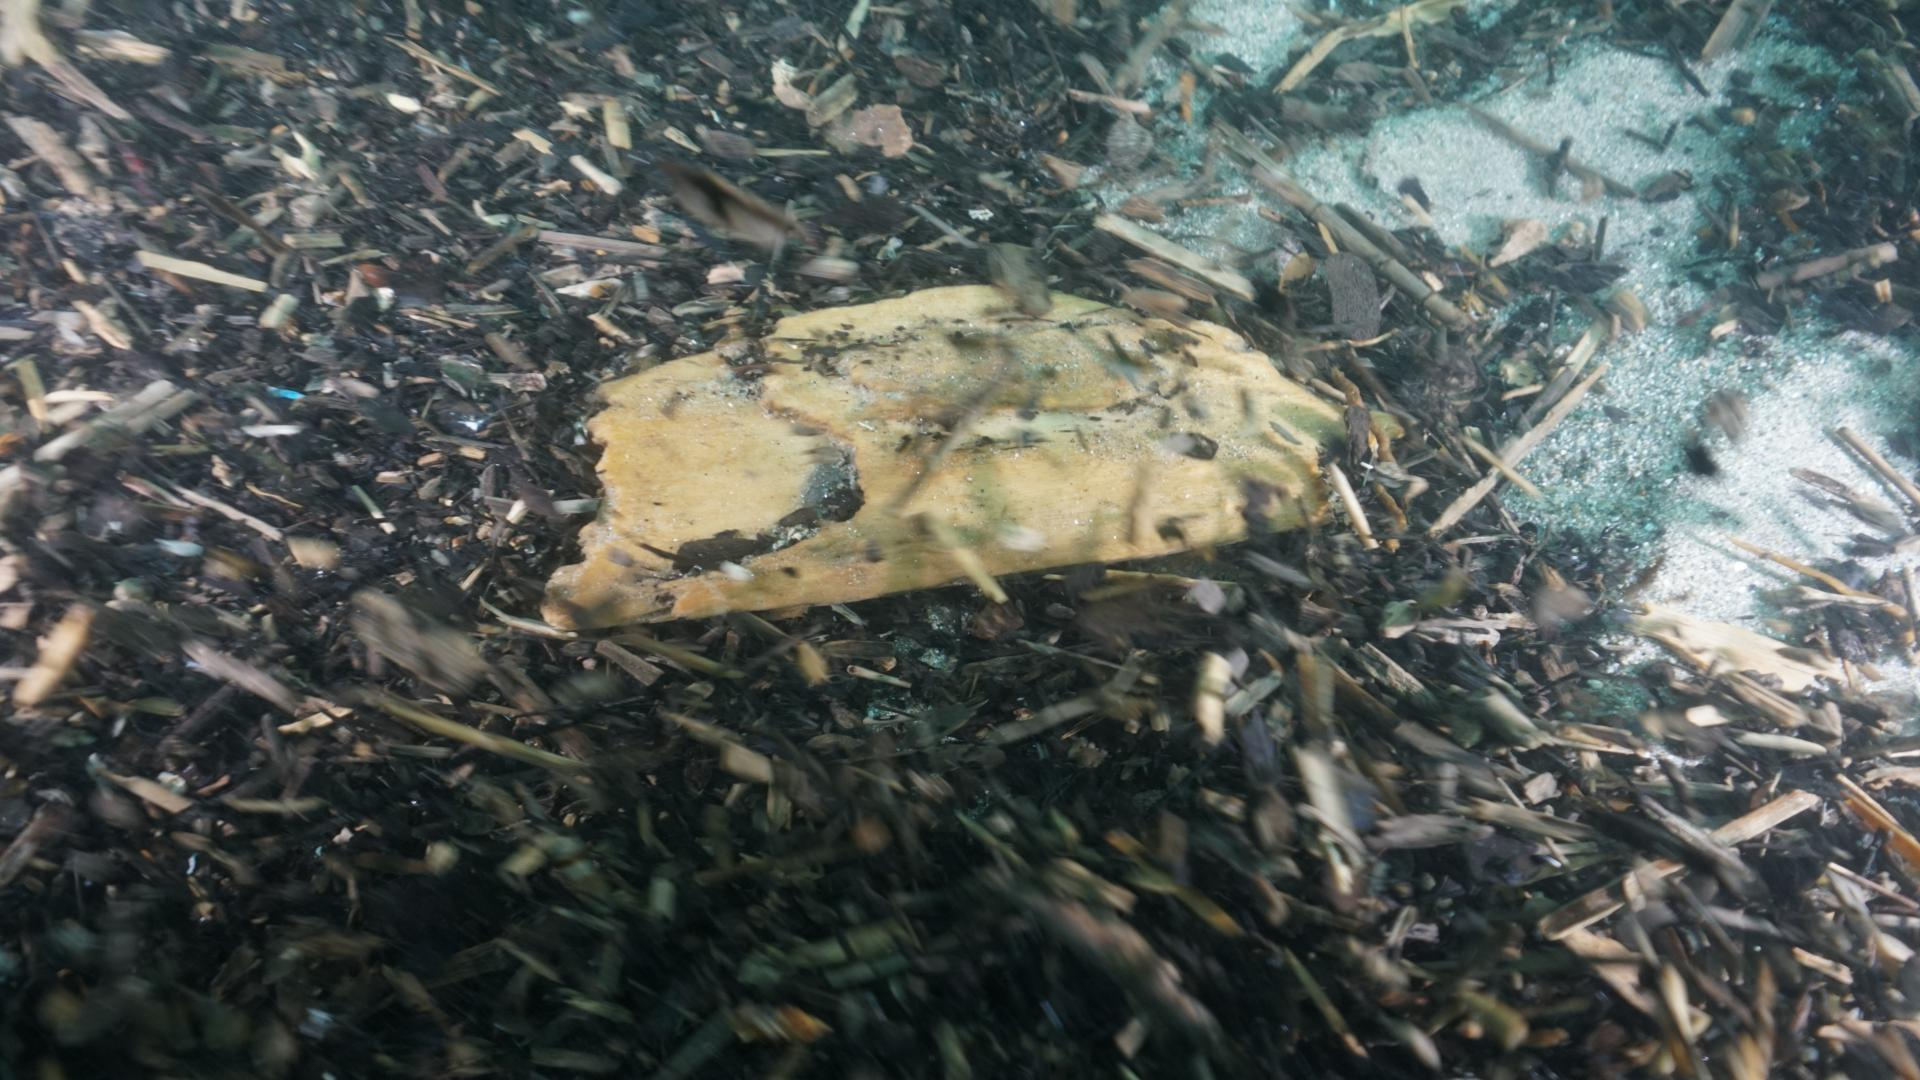wood: (543, 272, 1346, 638)
